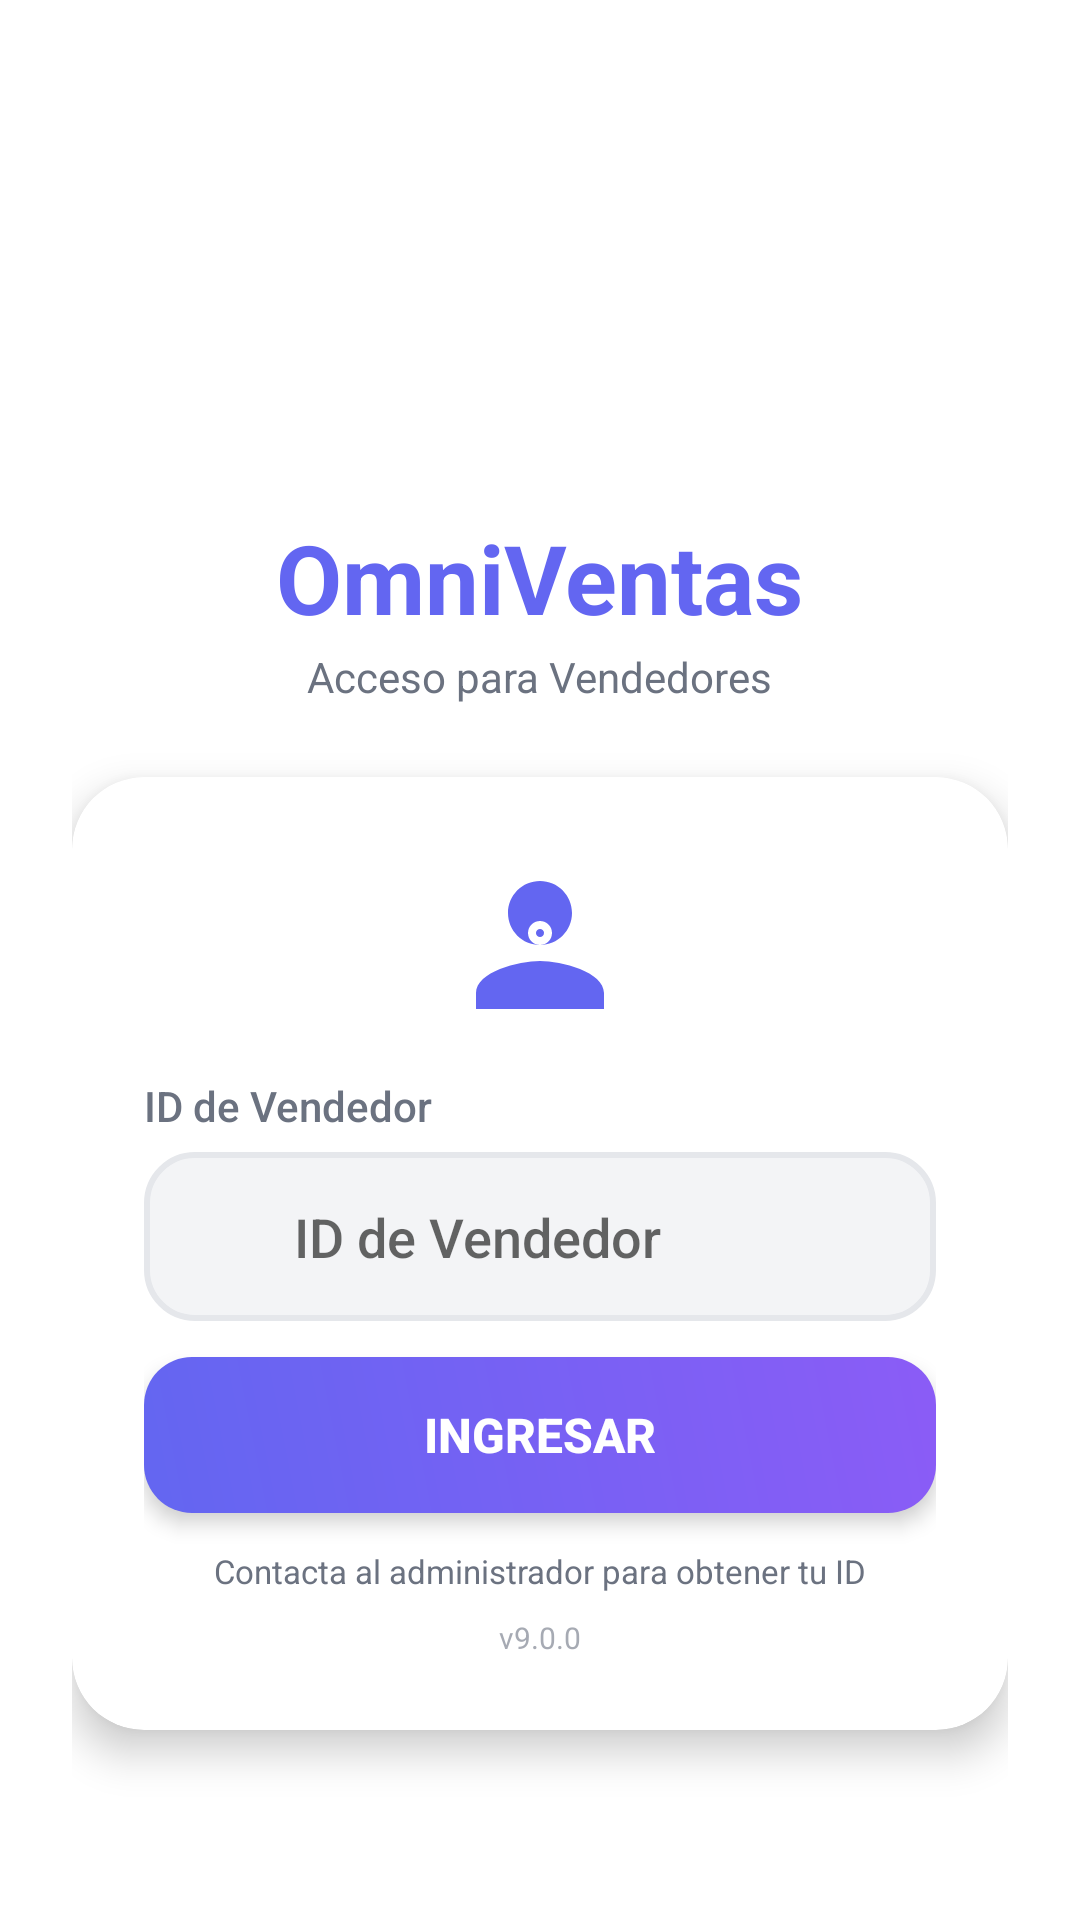

Locate icon controls on the screen. Image size 1080px x 1920px, boxes as [left=x1, top=y1, right=x2, bottom=y2].
vendor: [left=476, top=881, right=604, bottom=1009]
